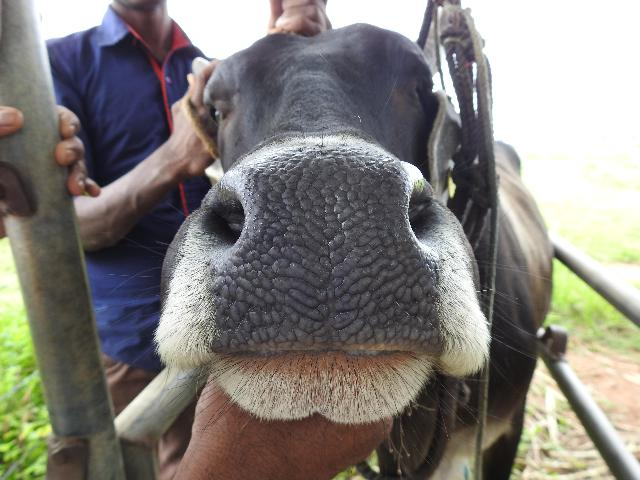Muzzle: (238, 165, 424, 351)
